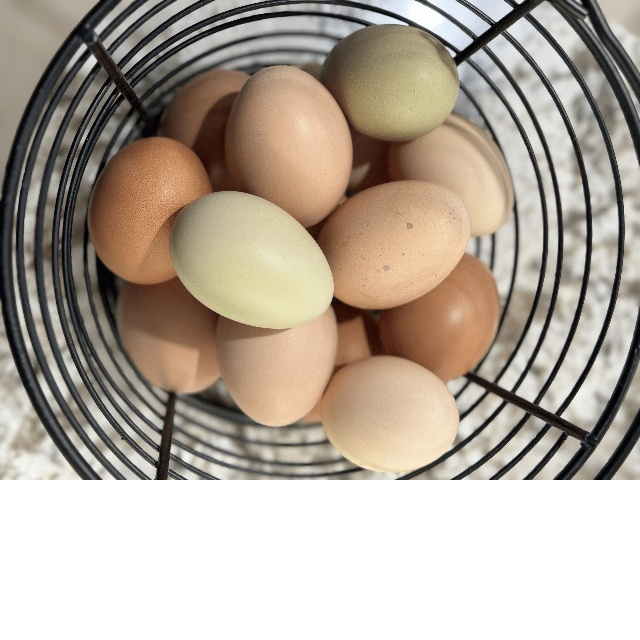mit: (220, 62, 354, 229), (312, 175, 470, 312), (86, 133, 213, 290), (318, 353, 462, 476), (211, 296, 338, 430)
